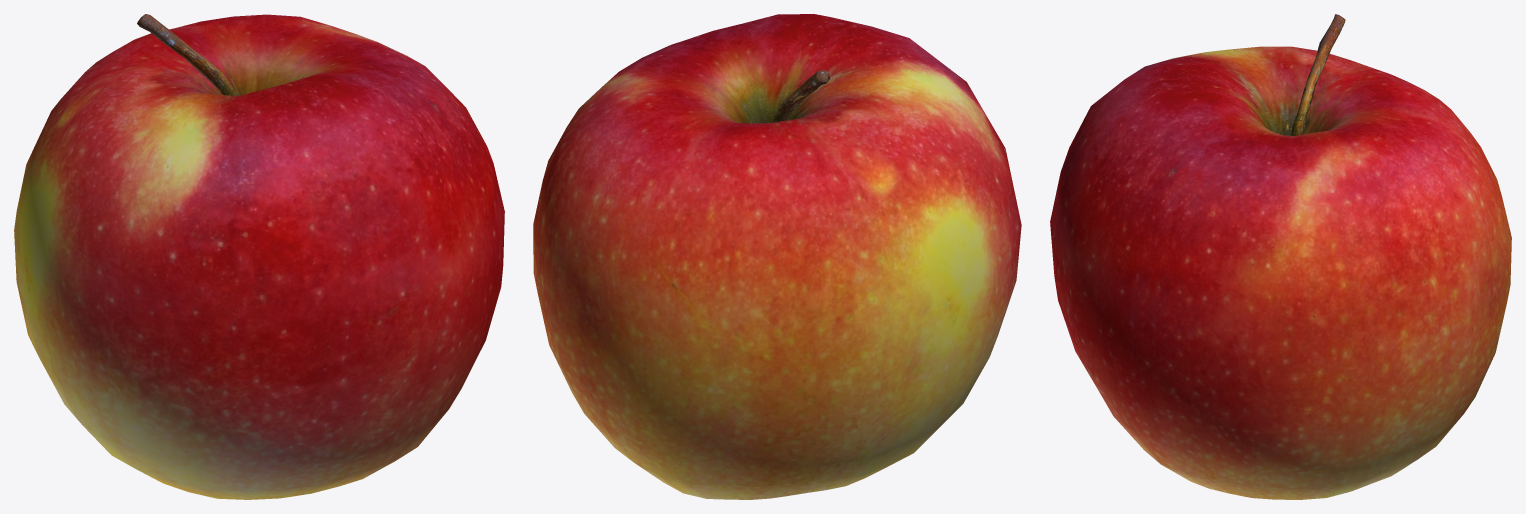
Rendered from apple.glb.
3 views of the same model, side by side, from view 1: azimuth 30°, elevation 25°; view 2: azimuth 150°, elevation 25°; view 3: azimuth 270°, elevation 25° (orthographic). The views are drawn at different scales.
Visible parts, largest first — view 1: Pink_Lady_Apple_01; view 2: Pink_Lady_Apple_01; view 3: Pink_Lady_Apple_01.
Part boxes in pixels (box(x1,y1,x2,y2)): Pink_Lady_Apple_01: box(14, 14, 504, 499); Pink_Lady_Apple_01: box(533, 14, 1021, 499); Pink_Lady_Apple_01: box(1050, 14, 1511, 499).
Size of the model in its own units: 9.89 by 9.64 by 9.92.
1 material, 1 textured.
